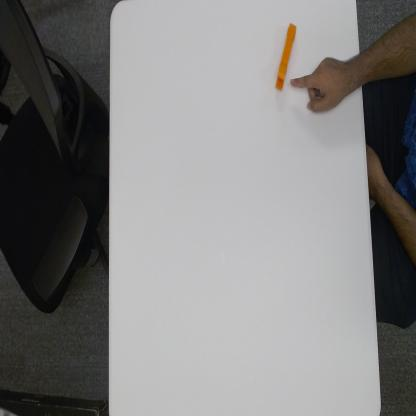Hand: (289, 50, 360, 114)
Screwdriver: (274, 19, 298, 90)
